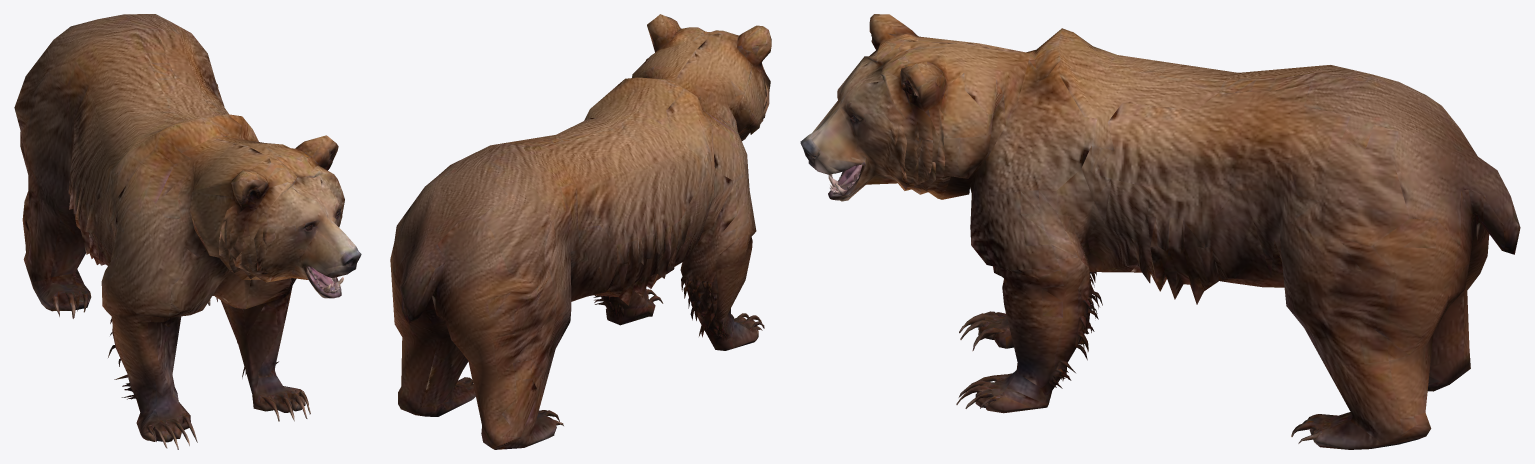
The model's file is Bear.glb.
3 renders of one model, left to right at view 1: azimuth 30°, elevation 25°; view 2: azimuth 150°, elevation 25°; view 3: azimuth 270°, elevation 25°, orthographic. The views are drawn at different scales.
Visible parts, largest first — view 1: Bear; view 2: Bear; view 3: Bear.
Boxes of the visible parts, bbox=[...] form: Bear: bbox=[14, 14, 361, 449]; Bear: bbox=[390, 14, 771, 449]; Bear: bbox=[800, 14, 1520, 449].
Size of the model in its own units: 0.5593 by 0.6576 by 1.23.
1 material, 1 textured.
